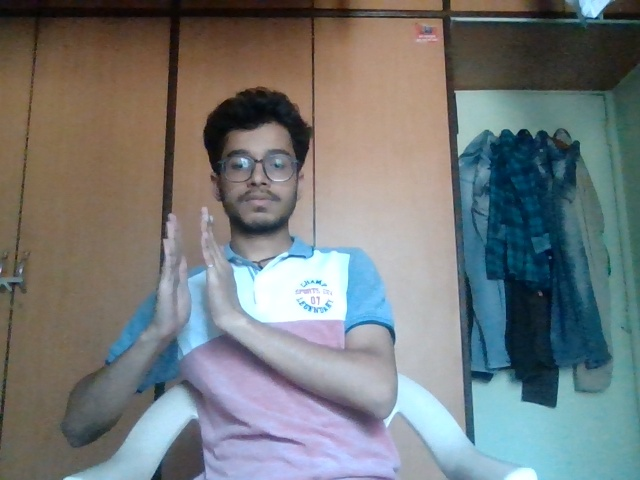morning: (137, 204, 292, 349)
